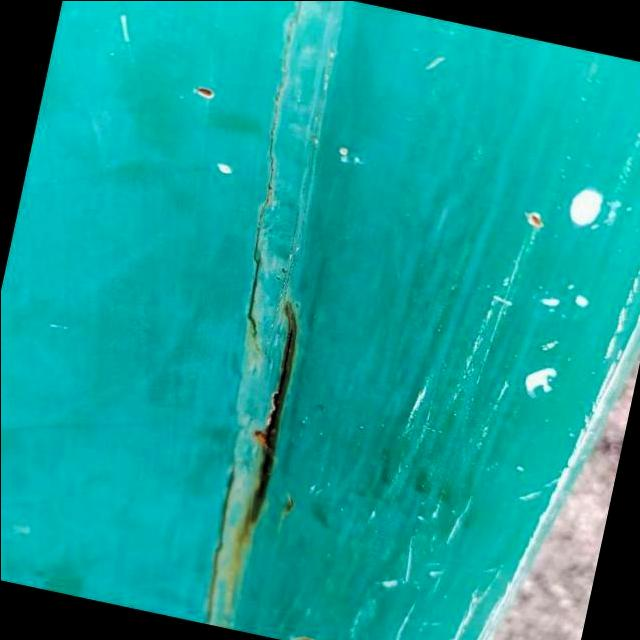defect: (243, 0, 305, 356), (244, 297, 299, 531)
